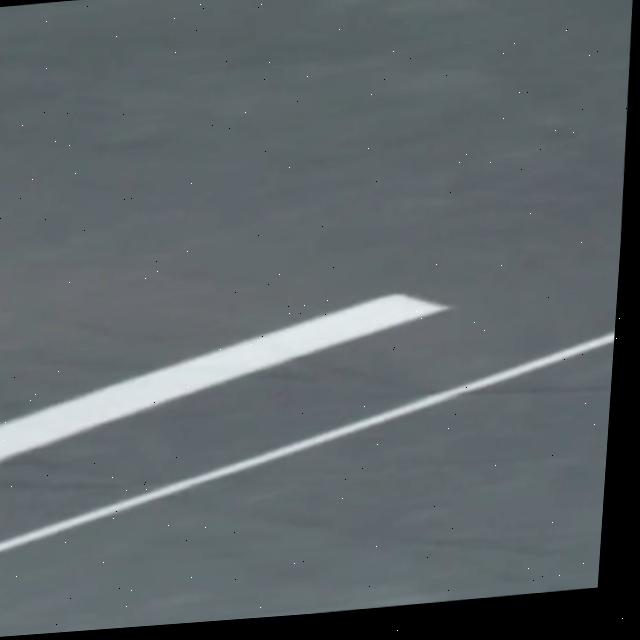center: (0, 294, 446, 460)
